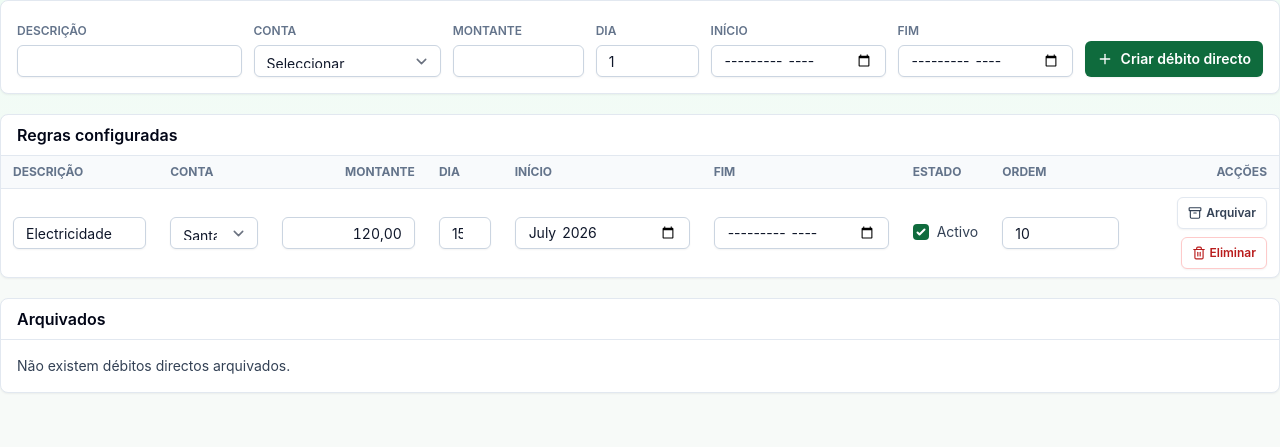
Scenario: RecurringRulesManagement › shows a clear delete blocking message
What coordinates should you click on to do the following:
click the button "Eliminar"
I would click on:
 (1224, 253)
Its box is left=1180, top=237, right=1267, bottom=269.
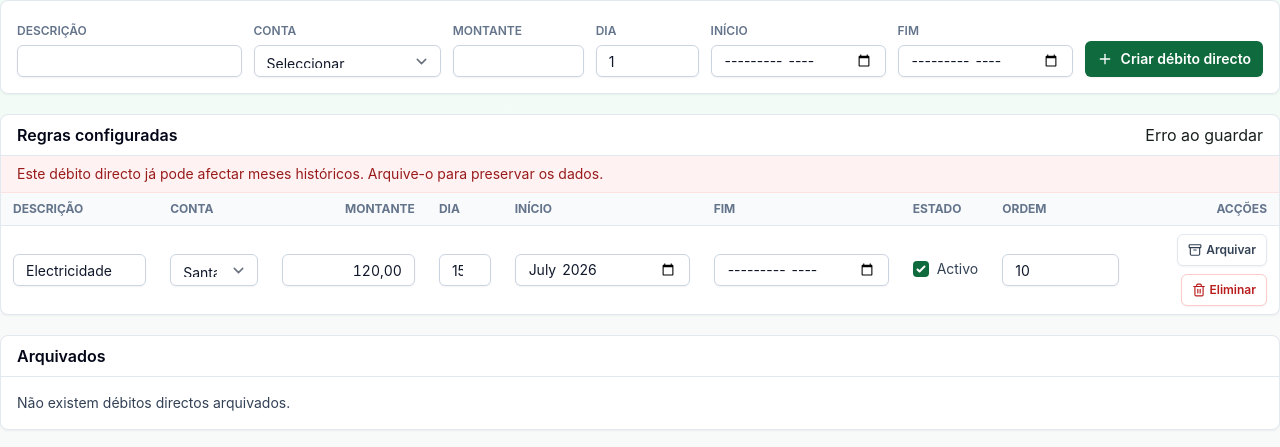
Expected: the field showing "Electricidade" is shown, left=13, top=254, right=146, bottom=286
Expected: the text "Erro ao guardar" is shown, left=1145, top=123, right=1263, bottom=147
Expected: the text "Este débito directo já pode afectar meses históricos. Arquive-o para preservar os dados." is shown, left=17, top=165, right=603, bottom=182
